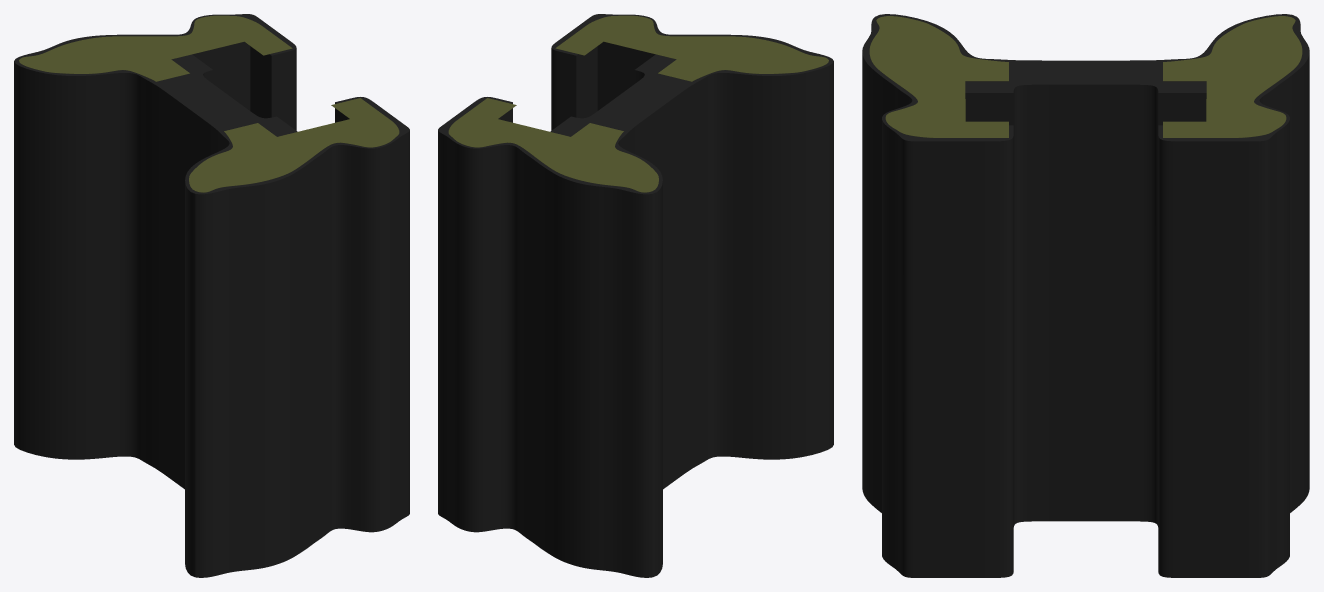
File: Grass_lower.fbx
3 renders of one model, left to right at view 1: azimuth 30°, elevation 25°; view 2: azimuth 150°, elevation 25°; view 3: azimuth 270°, elevation 25°, orthographic. The views are drawn at different scales.
Visible parts, largest first — view 1: Plane.465, Lower Grass.001; view 2: Plane.465, Lower Grass.001; view 3: Plane.465, Lower Grass.001.
Part boxes in pixels (x1,y1,x2,y2): Plane.465: (14, 14, 409, 577); Lower Grass.001: (19, 15, 399, 192); Plane.465: (438, 14, 833, 577); Lower Grass.001: (448, 15, 828, 192); Plane.465: (862, 14, 1309, 577); Lower Grass.001: (869, 16, 1302, 137).
Bounding box in the file's own units: 31.27 × 50.02 × 46.43.
